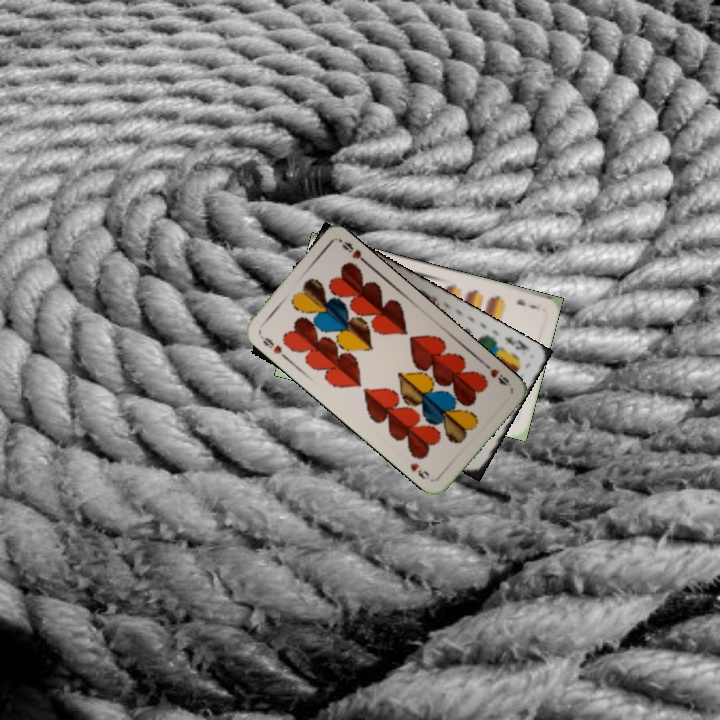E7: (512, 295, 544, 312)
EK: (501, 332, 532, 353)
H9: (255, 331, 290, 362), (479, 359, 512, 390)
